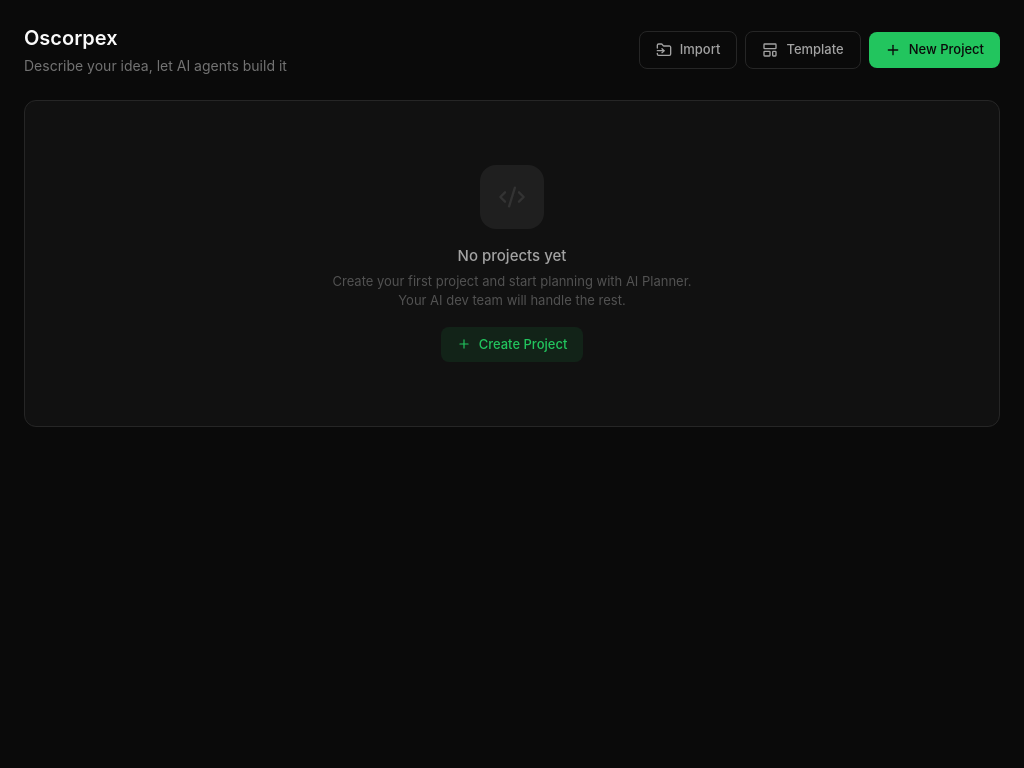
Scenario: StudioHomePage — proje olusturma modali › isim ve aciklama girildikten sonra "Create Shell" butonu aktif olmali
Click the button "New Project": coordinates (934, 50) [869,32,1000,68]
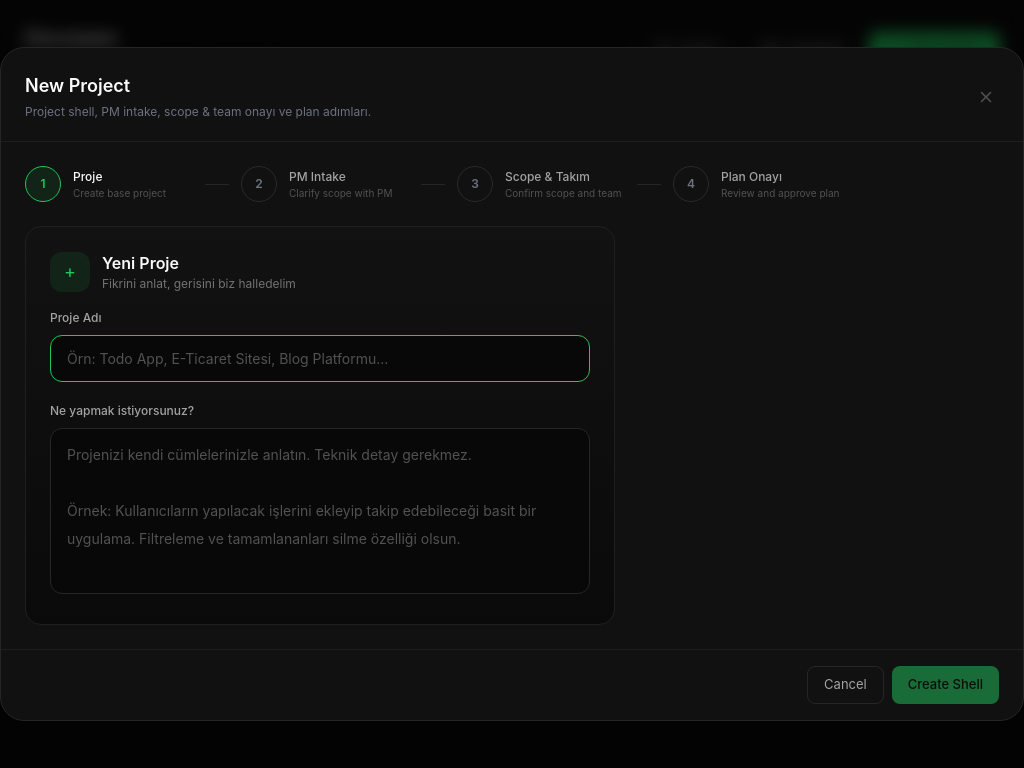
In the field with placeholder "Örn: Todo App, E-Ticaret Sitesi, Blog Platformu...": coordinates (320, 359) [50,335,590,382], type "Benim Projem"
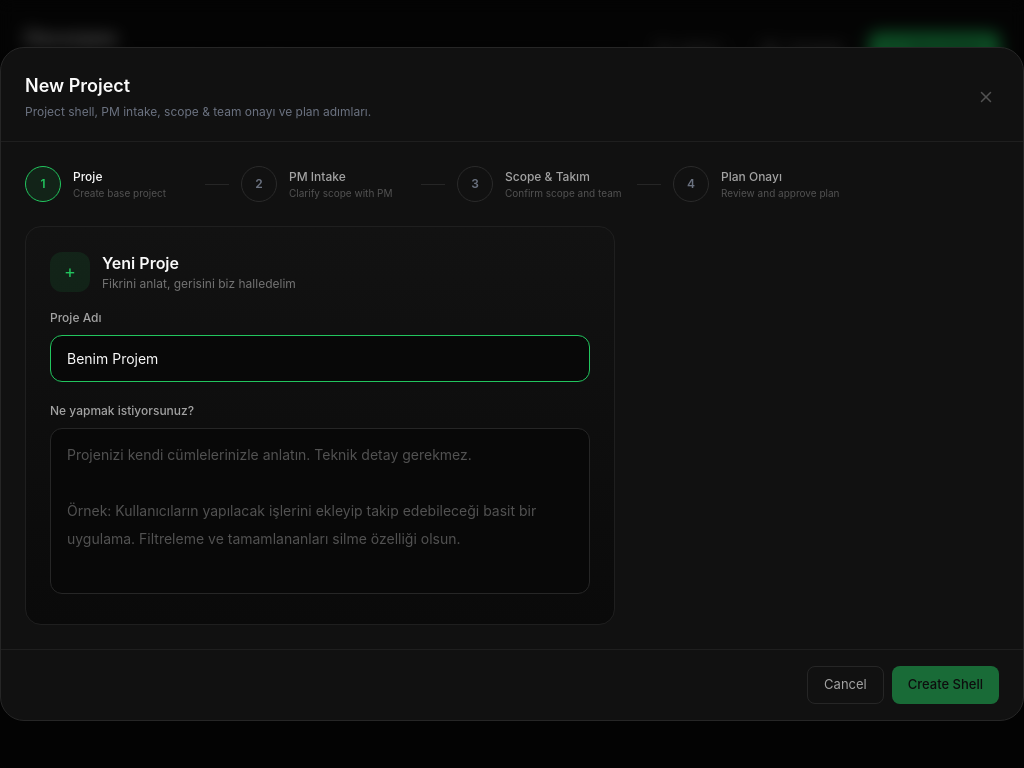
// Description da gerekli (min 10 karakter)
In the text box with placeholder "Projenizi kendi": coordinates (320, 511) [50,428,590,594], type "Basit bir todo uygulamasi"
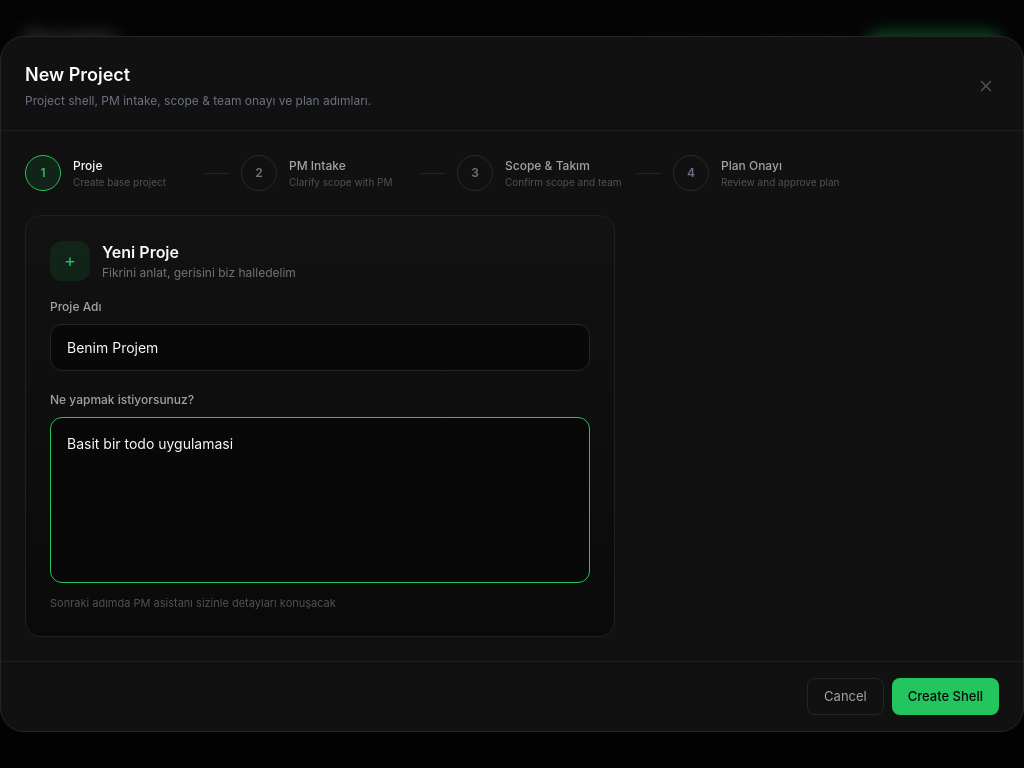
Now the button "Create Shell" is enabled, box [892,678,999,715]
